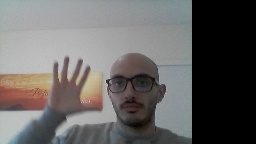Mano_aperta: (45, 52, 103, 118)
